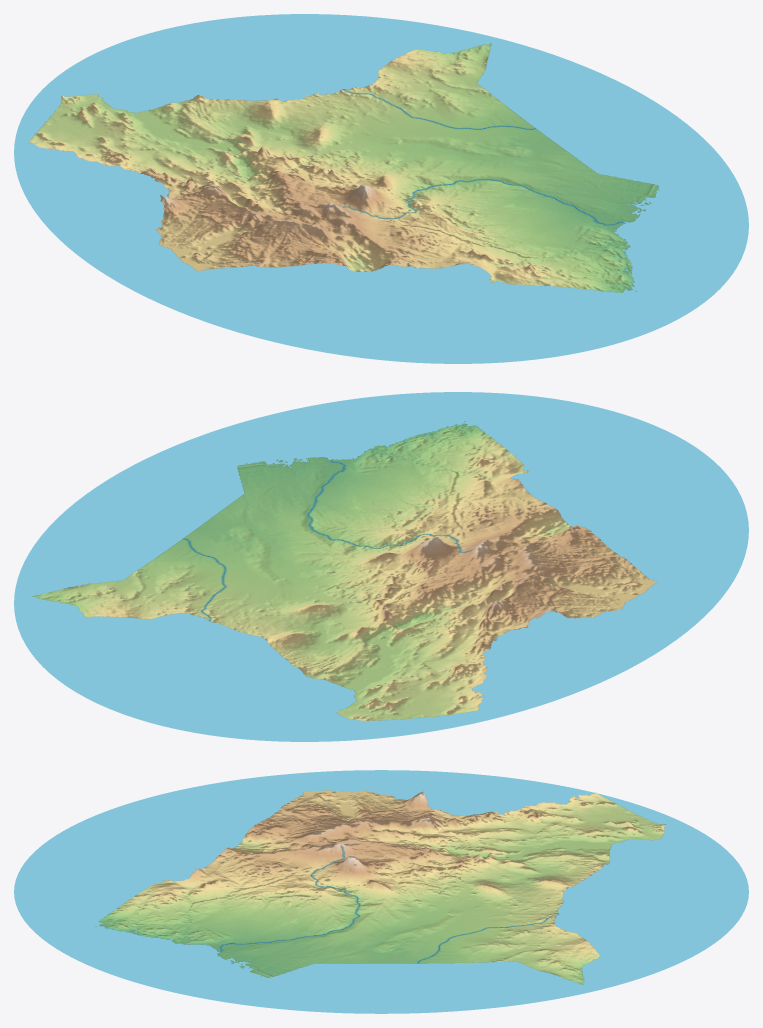
Rendered from KEN-terrain.glb.
3 renders of one model, top to bottom at view 1: azimuth 30°, elevation 25°; view 2: azimuth 150°, elevation 25°; view 3: azimuth 270°, elevation 25°, orthographic. The views are drawn at different scales.
Parts seen in each view (by area): view 1: Relevo com hidrografia; view 2: Relevo com hidrografia; view 3: Relevo com hidrografia.
Boxes of the visible parts, left/top/right/bottom form: Relevo com hidrografia: left=14, top=14, right=748, bottom=363; Relevo com hidrografia: left=14, top=392, right=748, bottom=741; Relevo com hidrografia: left=14, top=770, right=748, bottom=1013.
Bounding box in the file's own units: 1.63 × 0.0651 × 2.08.
2 materials, 1 textured.
